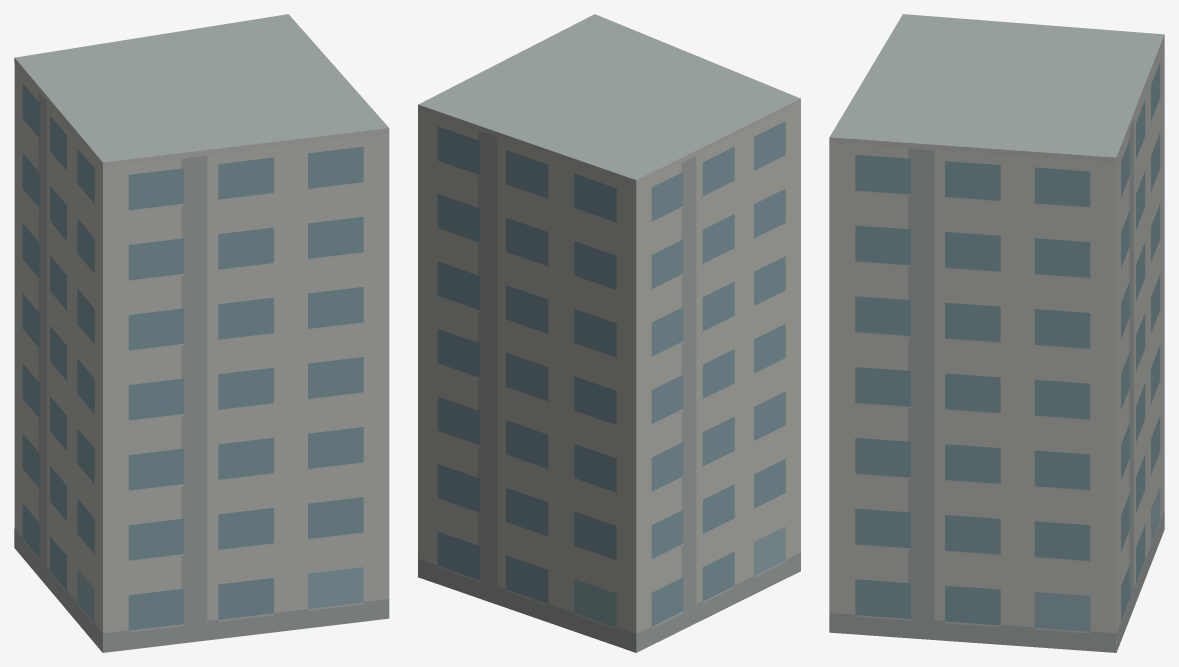
The model's file is residential-f533f868-67dc-48fc-ac06-fdaf67c9af82.glb.
The picture shows the model from 3 angles, left to right: view 1: azimuth 30°, elevation 25°; view 2: azimuth 150°, elevation 25°; view 3: azimuth 270°, elevation 25°; orthographic projection. The views are drawn at different scales.
Parts seen in each view (by area): view 1: residential-f533f868-67dc-48fc-ac06-fdaf67c9af82.tmp; view 2: residential-f533f868-67dc-48fc-ac06-fdaf67c9af82.tmp; view 3: residential-f533f868-67dc-48fc-ac06-fdaf67c9af82.tmp.
Boxes of the visible parts, x1,y1,x2,y2 form: residential-f533f868-67dc-48fc-ac06-fdaf67c9af82.tmp: (14,14,389,652); residential-f533f868-67dc-48fc-ac06-fdaf67c9af82.tmp: (418,14,800,652); residential-f533f868-67dc-48fc-ac06-fdaf67c9af82.tmp: (829,14,1164,652).
Bounding box in the file's own units: 13.29 × 21.35 × 13.1.
